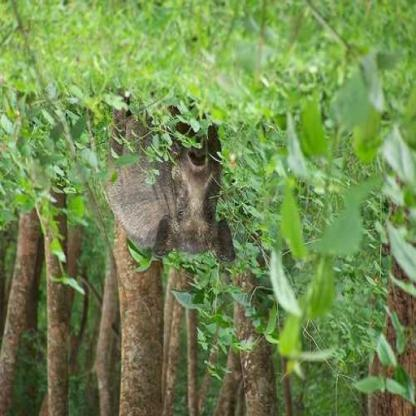boar: (99, 97, 240, 291)
